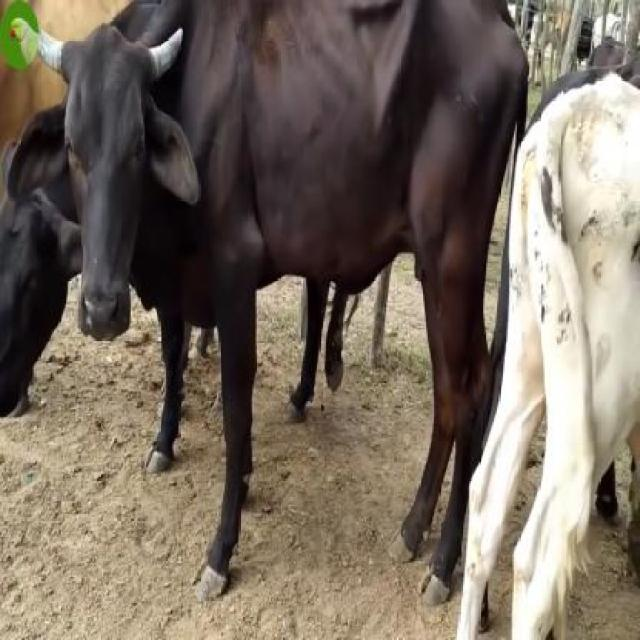Cow: (52, 0, 528, 588)
